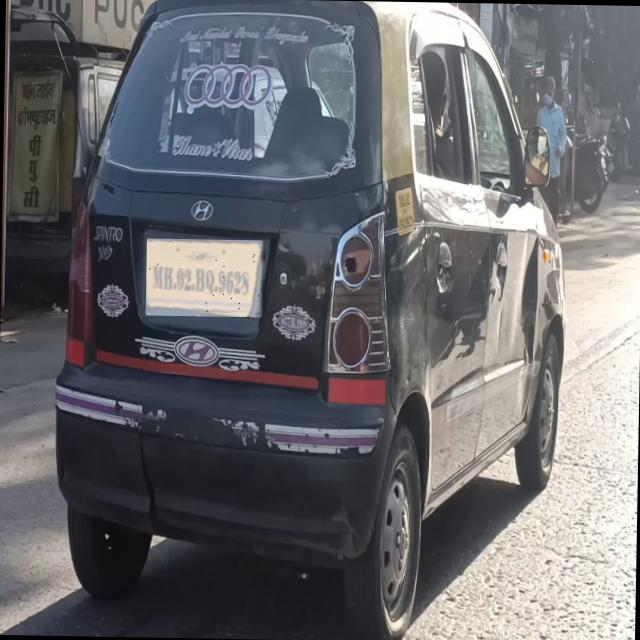Plate: (147, 239, 266, 318)
